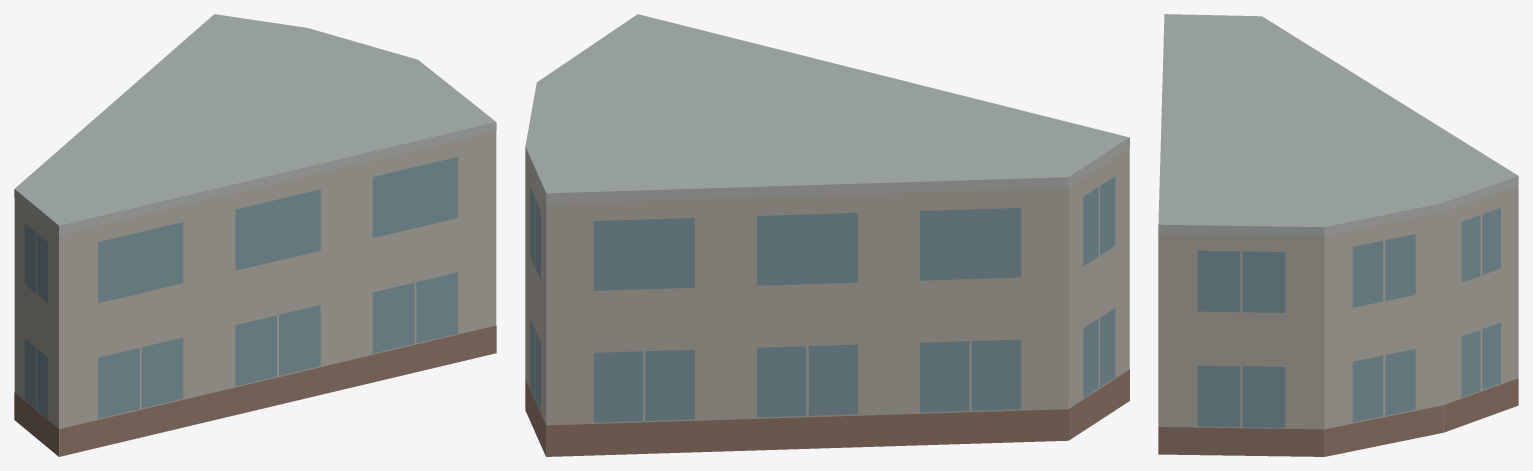
Rendered from survey-upis-32904265.glb.
3 renders of one model, left to right at view 1: azimuth 30°, elevation 25°; view 2: azimuth 150°, elevation 25°; view 3: azimuth 270°, elevation 25°, orthographic. The views are drawn at different scales.
Visible parts, largest first — view 1: survey-upis-32904265.tmp; view 2: survey-upis-32904265.tmp; view 3: survey-upis-32904265.tmp.
Boxes of the visible parts, x1,y1,x2,y2 form: survey-upis-32904265.tmp: (14,14,496,456); survey-upis-32904265.tmp: (525,14,1129,456); survey-upis-32904265.tmp: (1158,14,1518,456).
Bounding box in the file's own units: 12.35 × 6.2 × 8.82.
